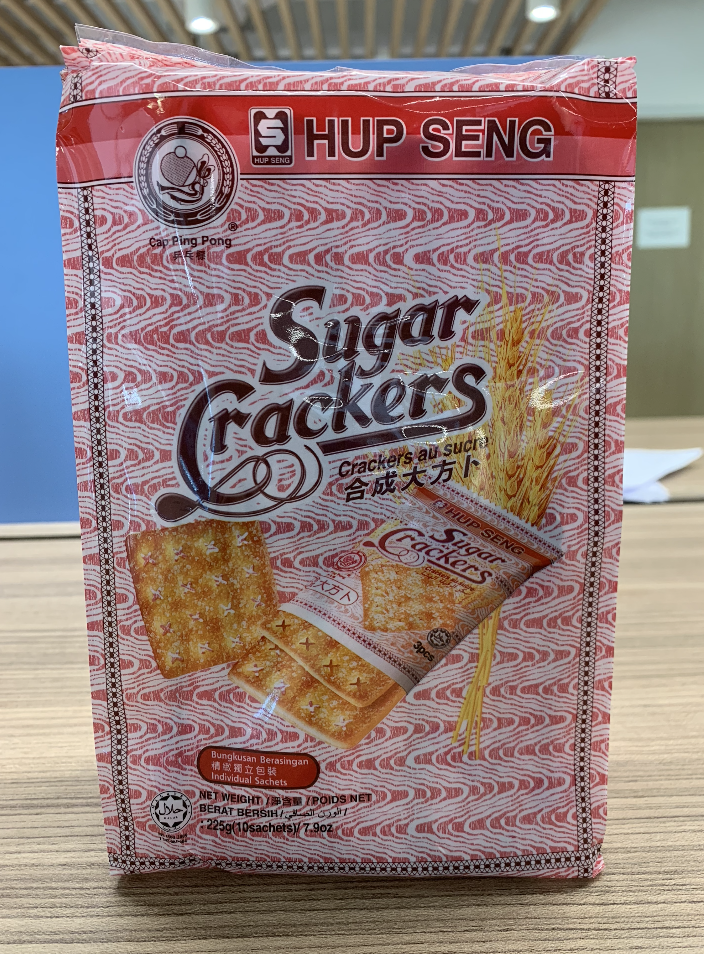crackers_150g: (120, 100, 593, 862)
